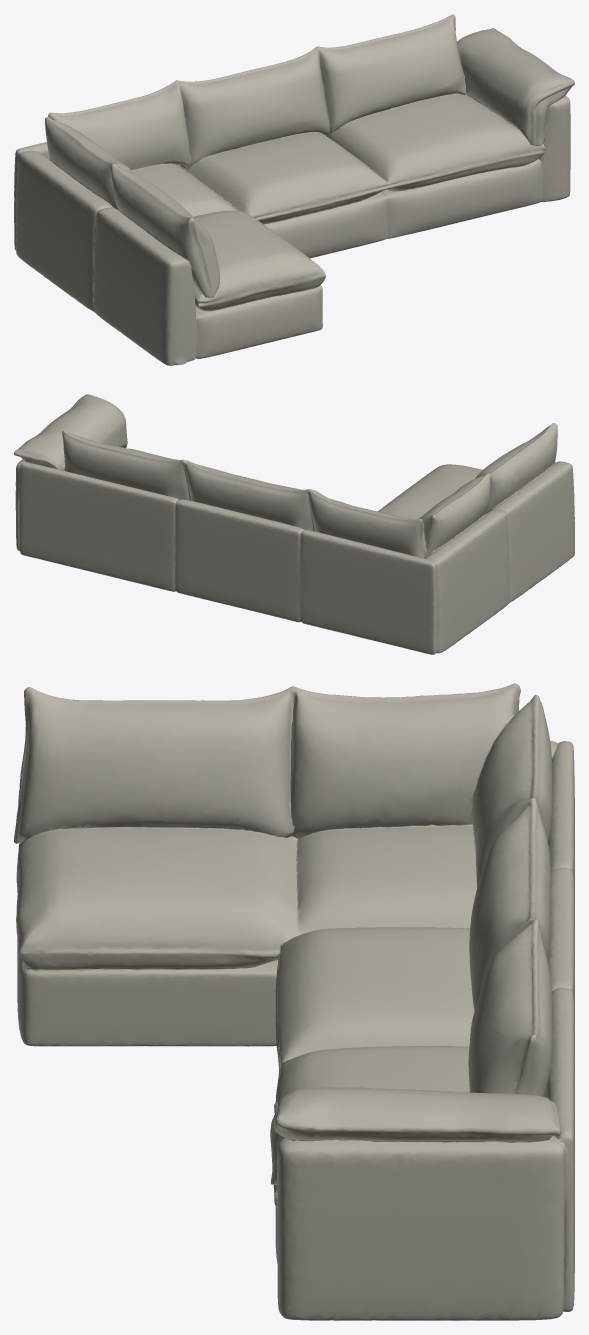
File: sectional.glb
The picture shows the model from 3 angles, top to bottom: view 1: azimuth 30°, elevation 25°; view 2: azimuth 150°, elevation 25°; view 3: azimuth 270°, elevation 25°; orthographic projection. The views are drawn at different scales.
Visible parts, largest first — view 1: world; view 2: world; view 3: world.
Boxes of the visible parts, x1,y1,x2,y2 form: world: [14, 14, 574, 365]; world: [14, 394, 574, 654]; world: [14, 683, 574, 1320].
Bounding box in the file's own units: 1 × 0.2838 × 0.5785.
1 material, 1 textured.
